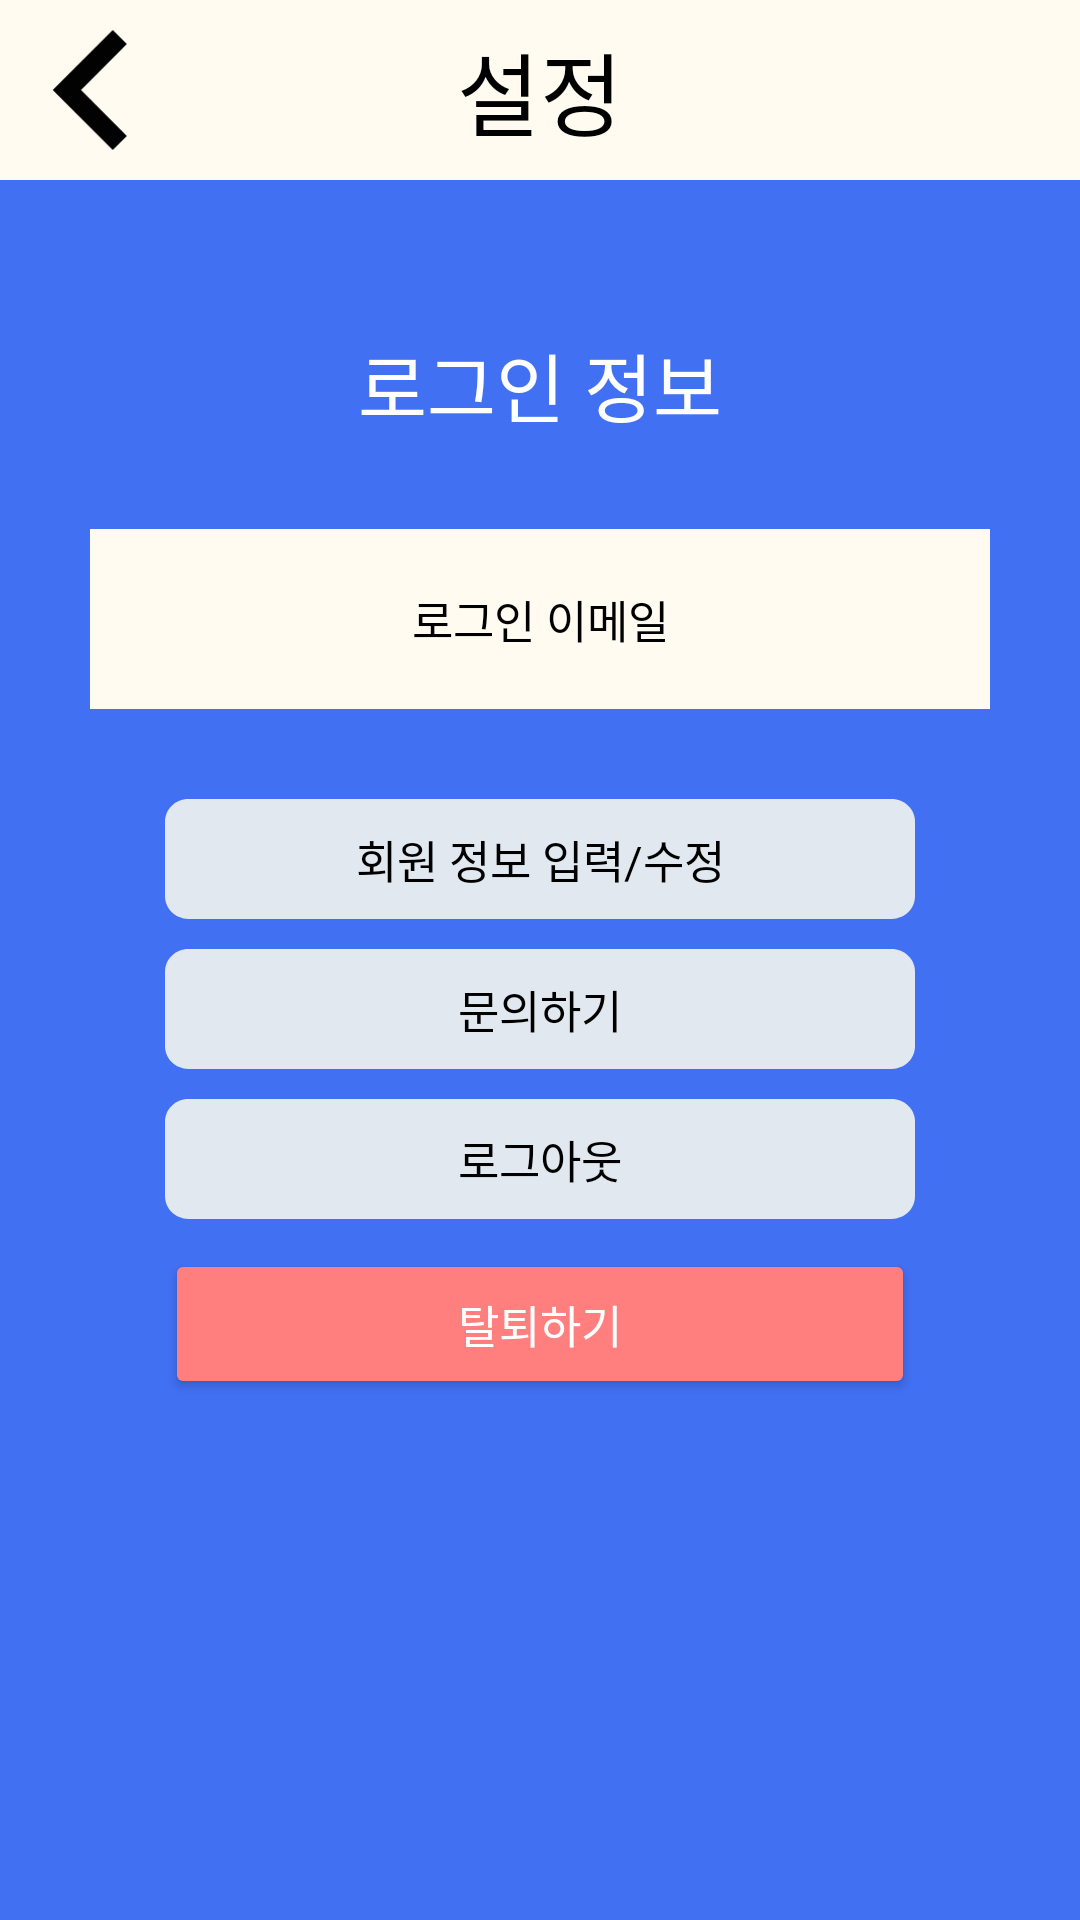

Point at icon controls on the screen. Image size 1080w x 1920h, points as [x,y].
back: [90,90]
